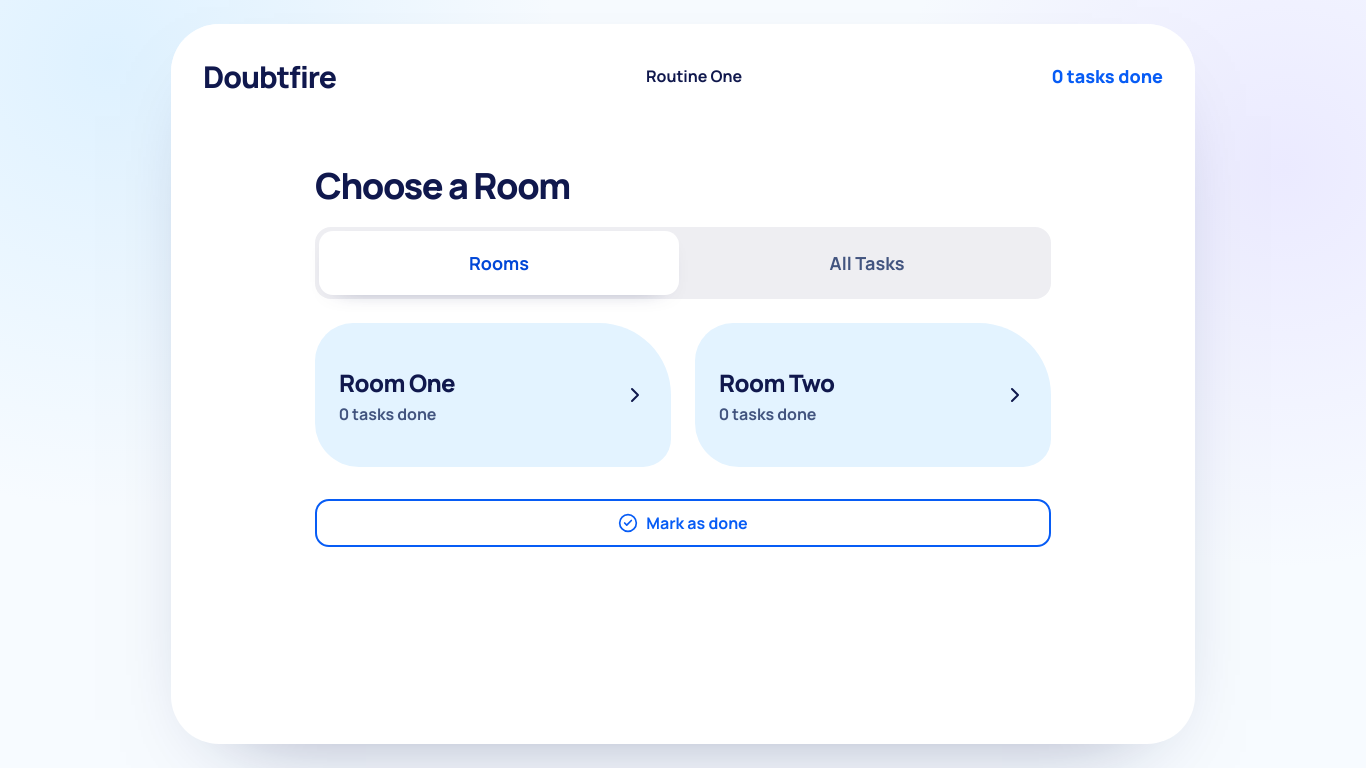
Test case: RunFlow › switches directly between Rooms
The width and height of the screenshot is (1366, 768).
Click the button "Room One 0 tasks done": click(397, 382) x1=315 y1=323 x2=671 y2=467
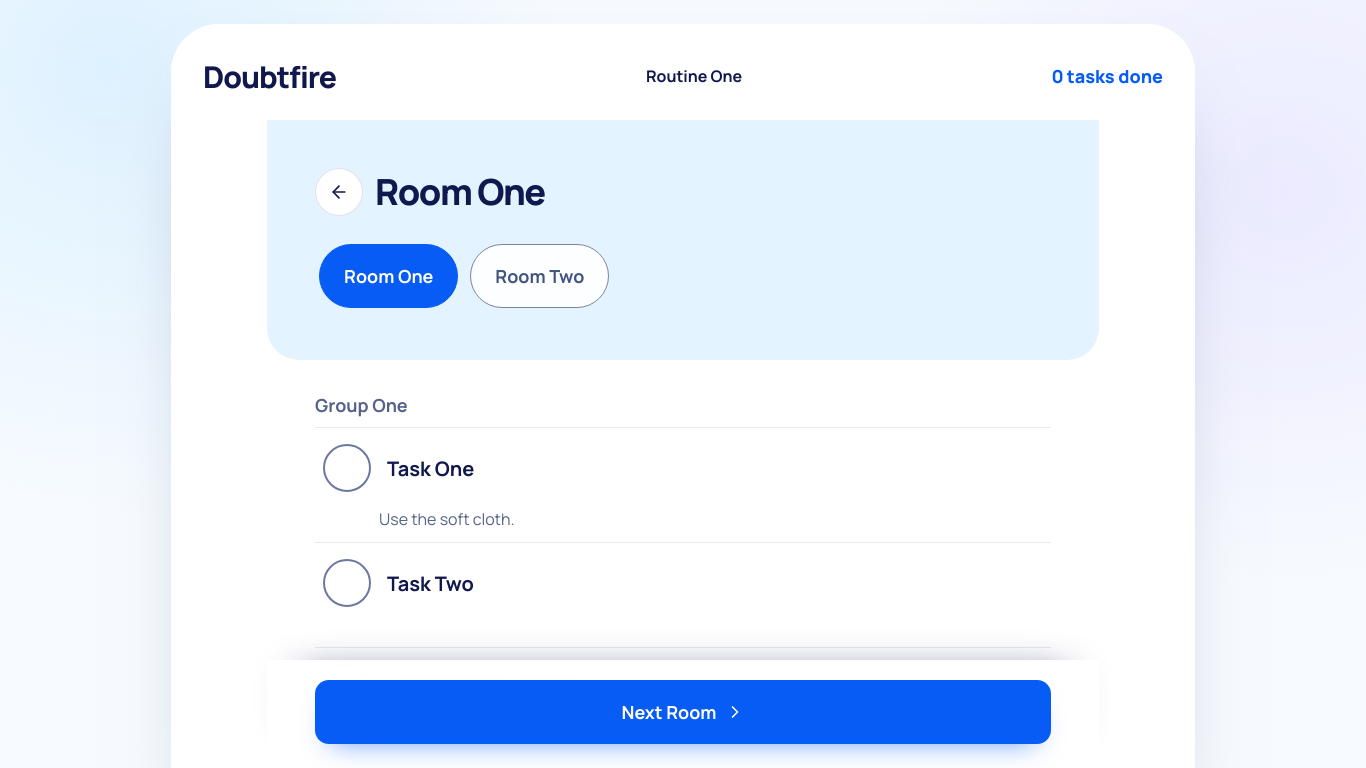
Click the button "Room Two": click(540, 276) x1=470 y1=244 x2=609 y2=308
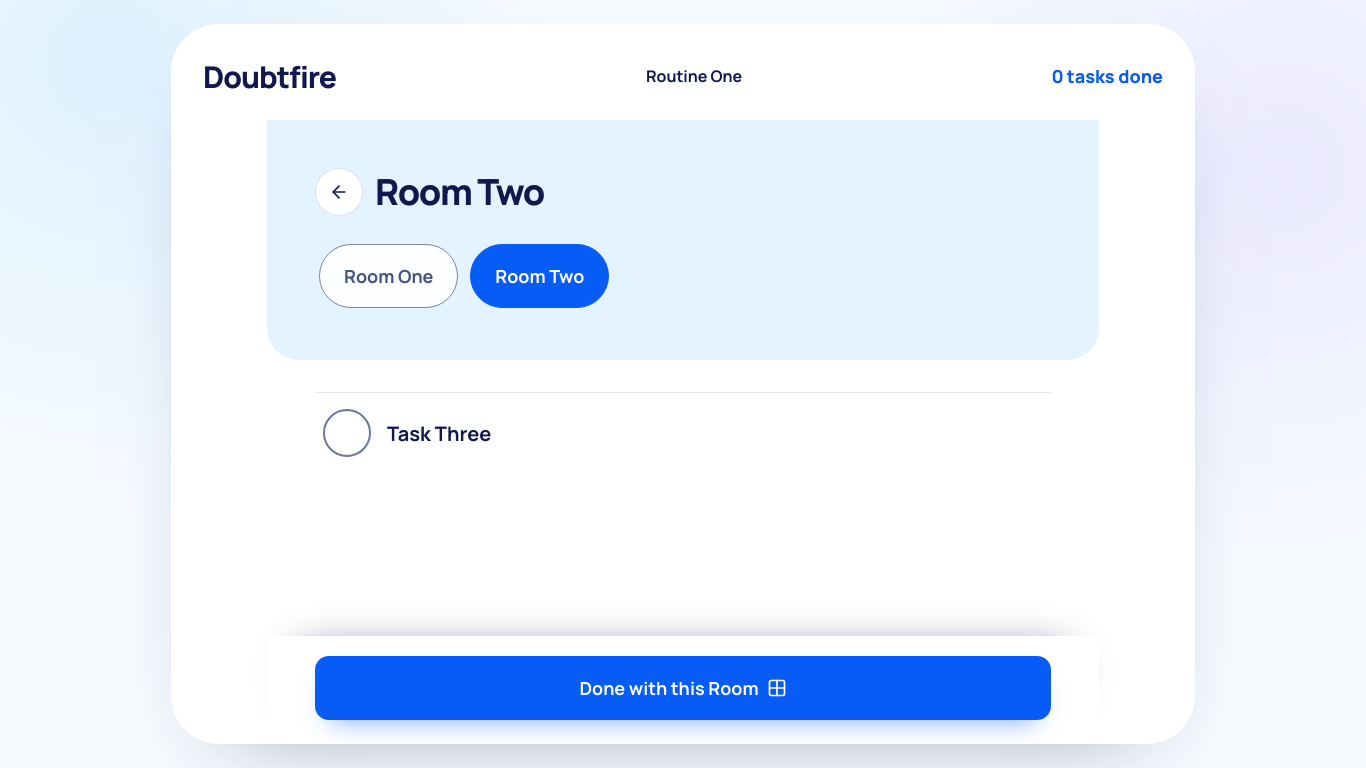
Result: the heading reads "Room Two" at x1=375 y1=167 x2=544 y2=216
